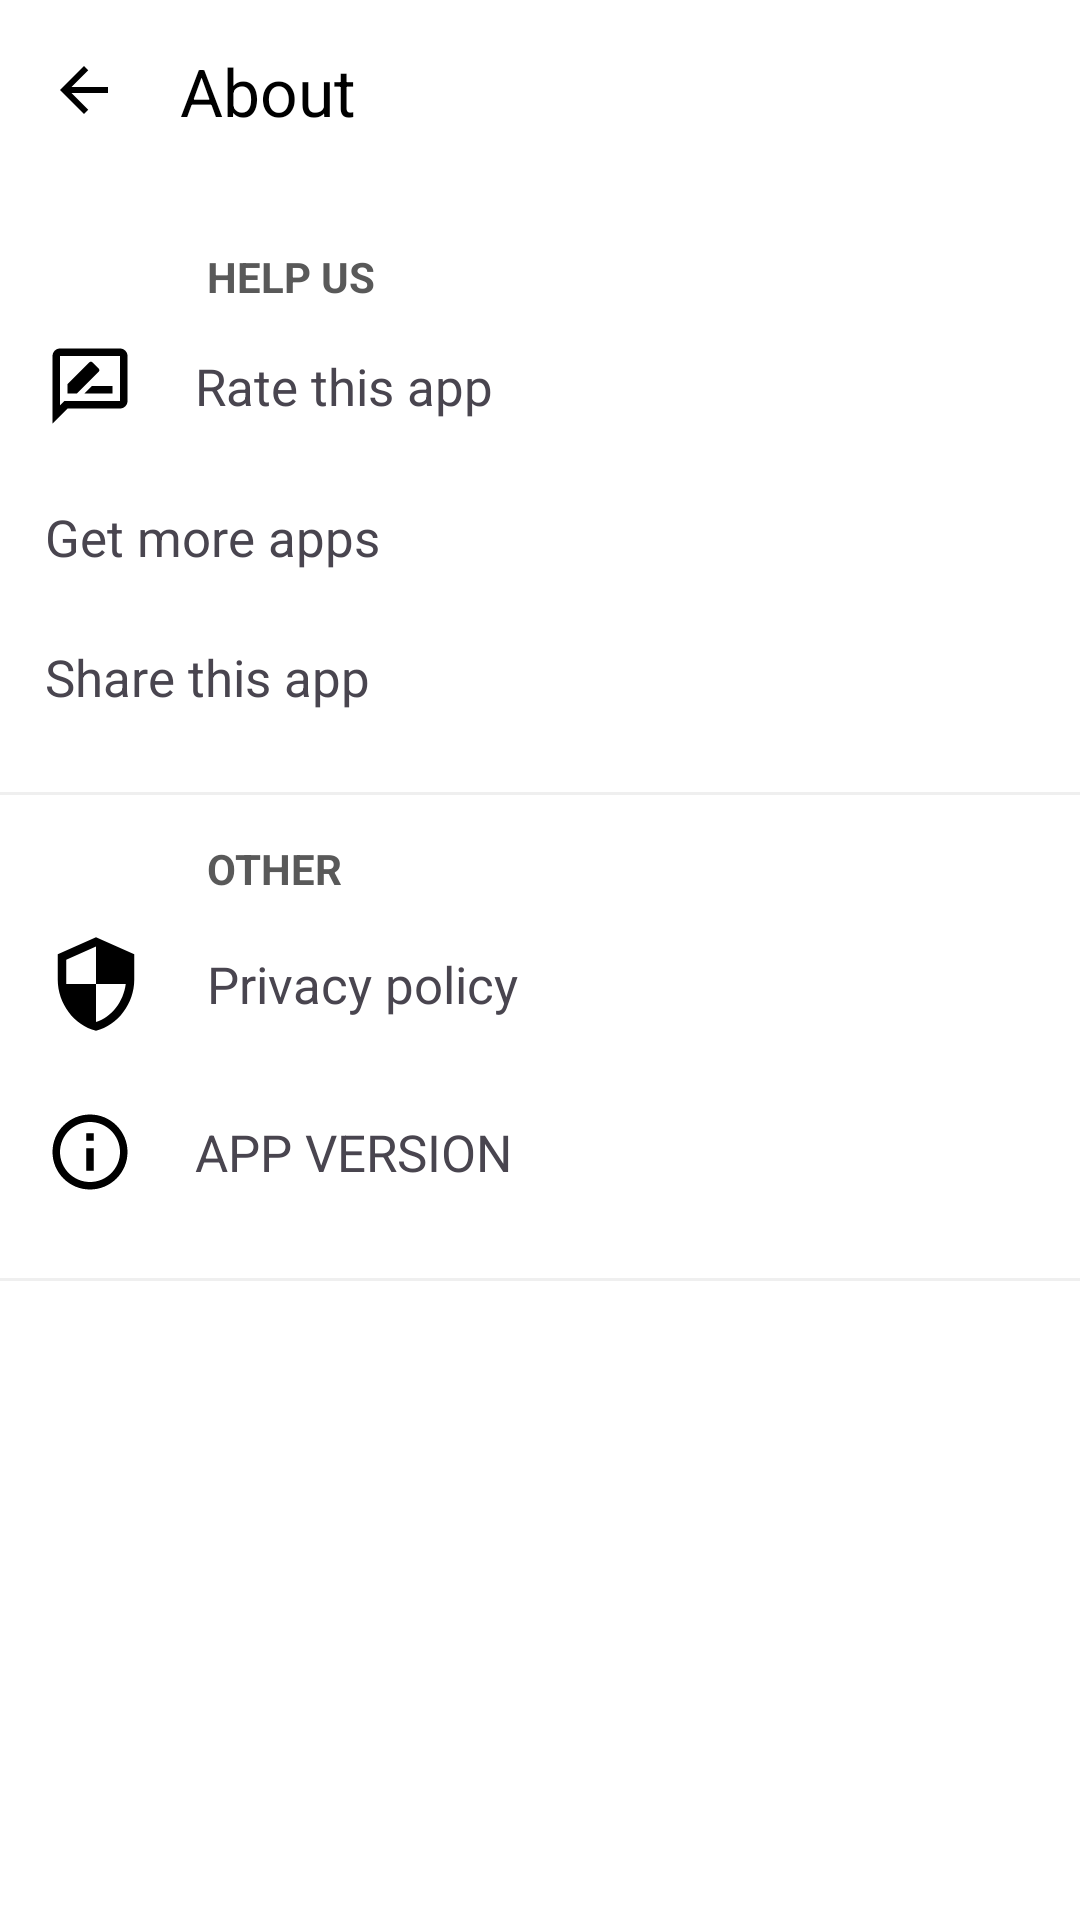

Where to tap for icons on this 1080 × 1920 app screen, as [x,y]:
arrow back: [84,90]
